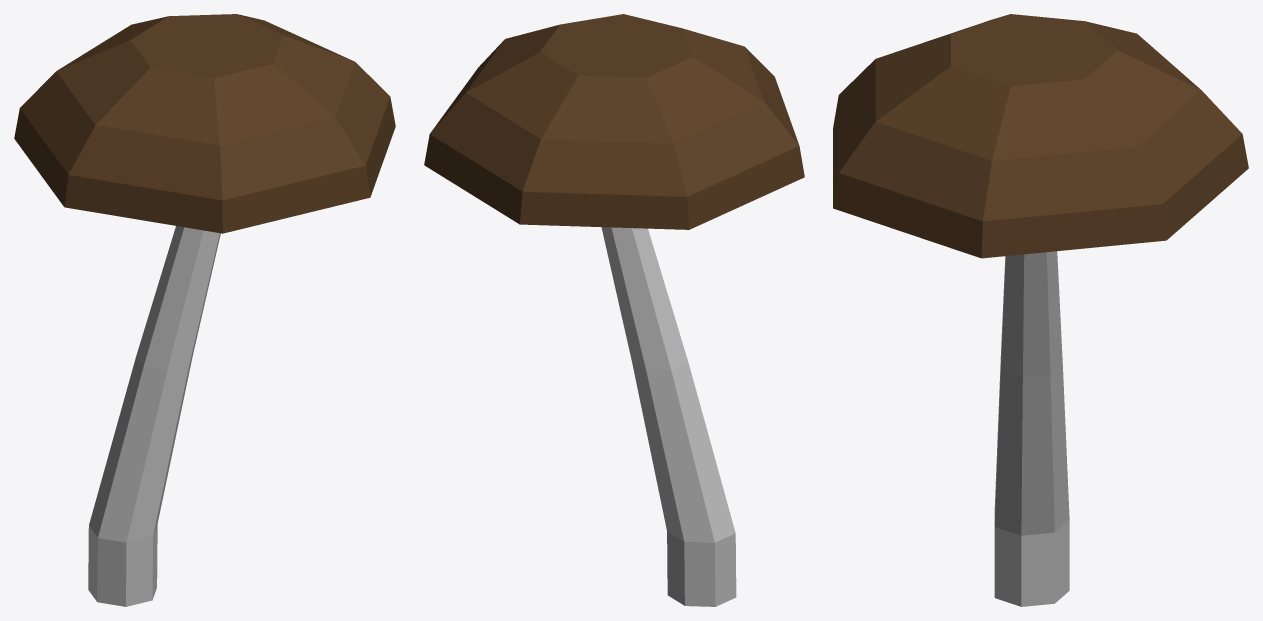
File: MushroomOmg.fbx
3 views of the same model, side by side, from view 1: azimuth 30°, elevation 25°; view 2: azimuth 150°, elevation 25°; view 3: azimuth 270°, elevation 25° (orthographic). The views are drawn at different scales.
Parts seen in each view (by area): view 1: Cylinder.002; view 2: Cylinder.002; view 3: Cylinder.002.
Boxes of the visible parts, x1,y1,x2,y2 form: Cylinder.002: [14, 14, 395, 606]; Cylinder.002: [424, 14, 804, 606]; Cylinder.002: [833, 14, 1248, 606].
Bounding box in the file's own units: 50.04 × 75.95 × 48.78.
